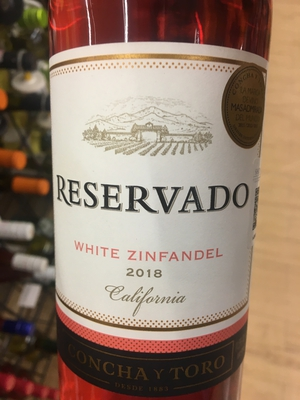reservado white zinfandel: (44, 16, 286, 399)
